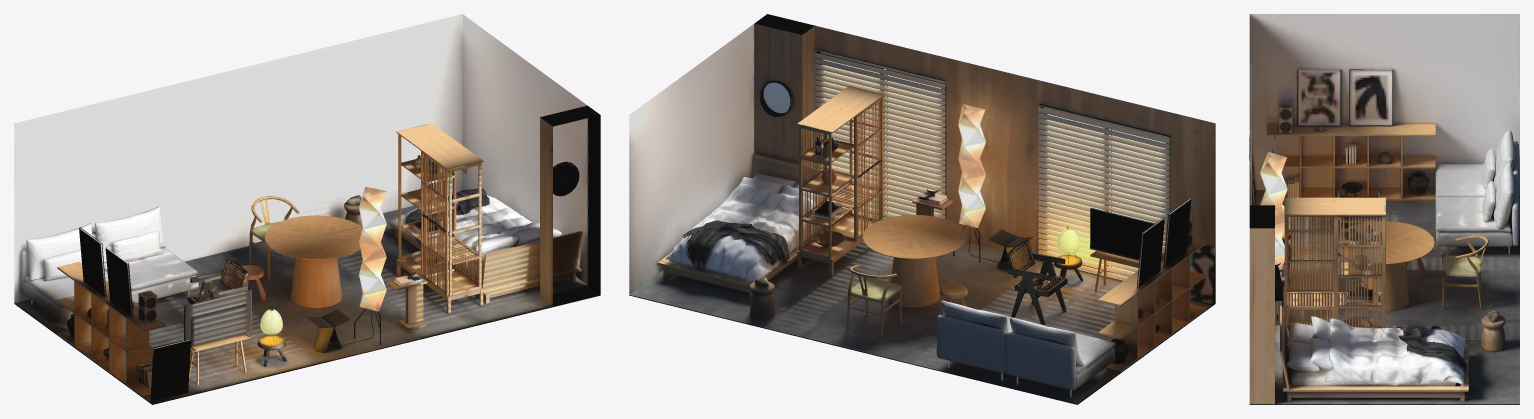
Rendered from compressed_alt5.glb.
The picture shows the model from 3 angles, left to right: view 1: azimuth 30°, elevation 25°; view 2: azimuth 150°, elevation 25°; view 3: azimuth 270°, elevation 25°; orthographic projection. The views are drawn at different scales.
Parts seen in each view (by area): view 1: alt5_Baked.003; view 2: alt5_Baked.003; view 3: alt5_Baked.003.
Boxes of the visible parts, x1,y1,x2,y2 form: alt5_Baked.003: [14, 14, 600, 404]; alt5_Baked.003: [629, 14, 1215, 404]; alt5_Baked.003: [1249, 14, 1519, 404].
Size of the model in its own units: 5.59 by 2.15 by 3.04.
1 material, 1 textured.
